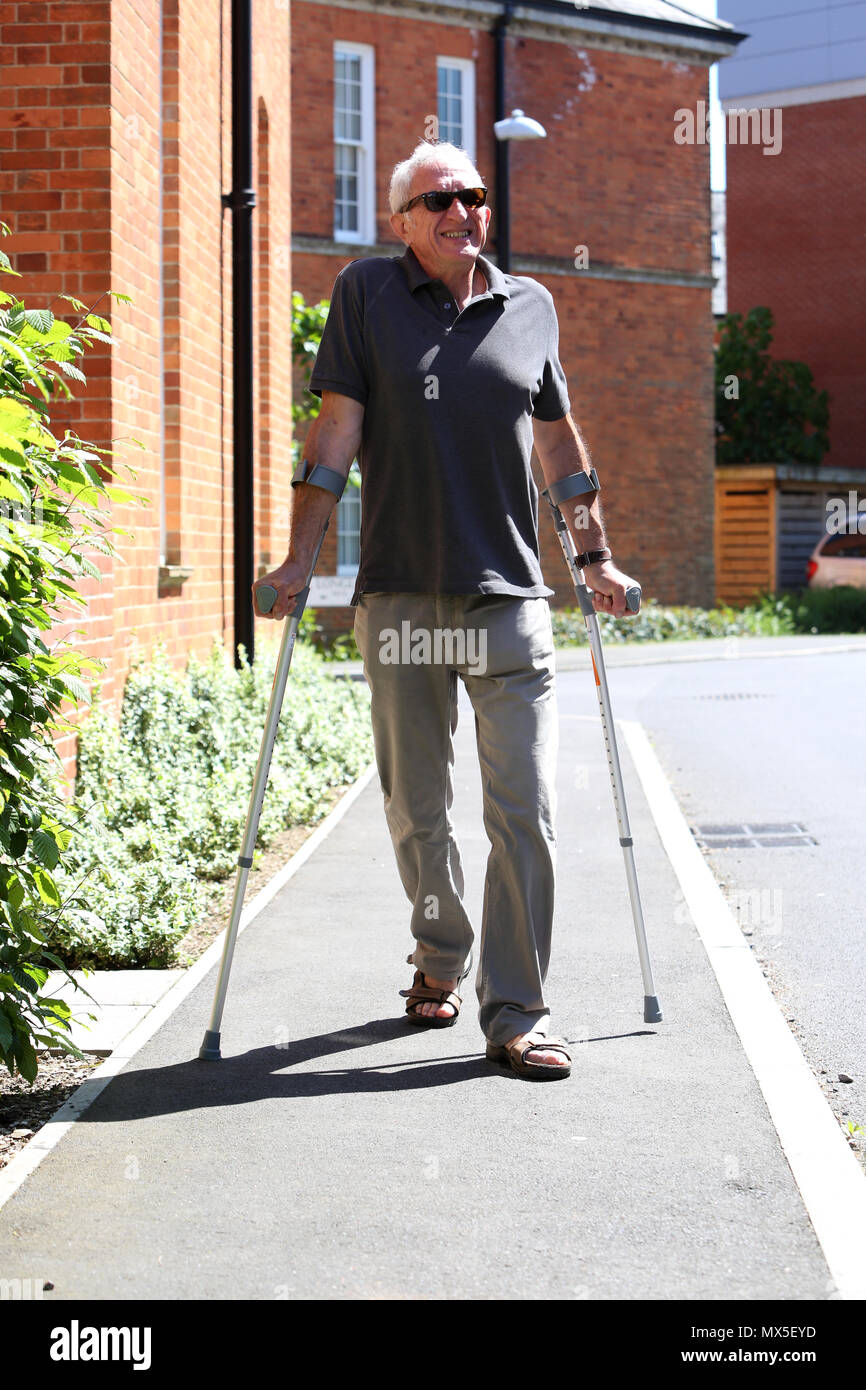crutches: (199, 147, 661, 1078)
